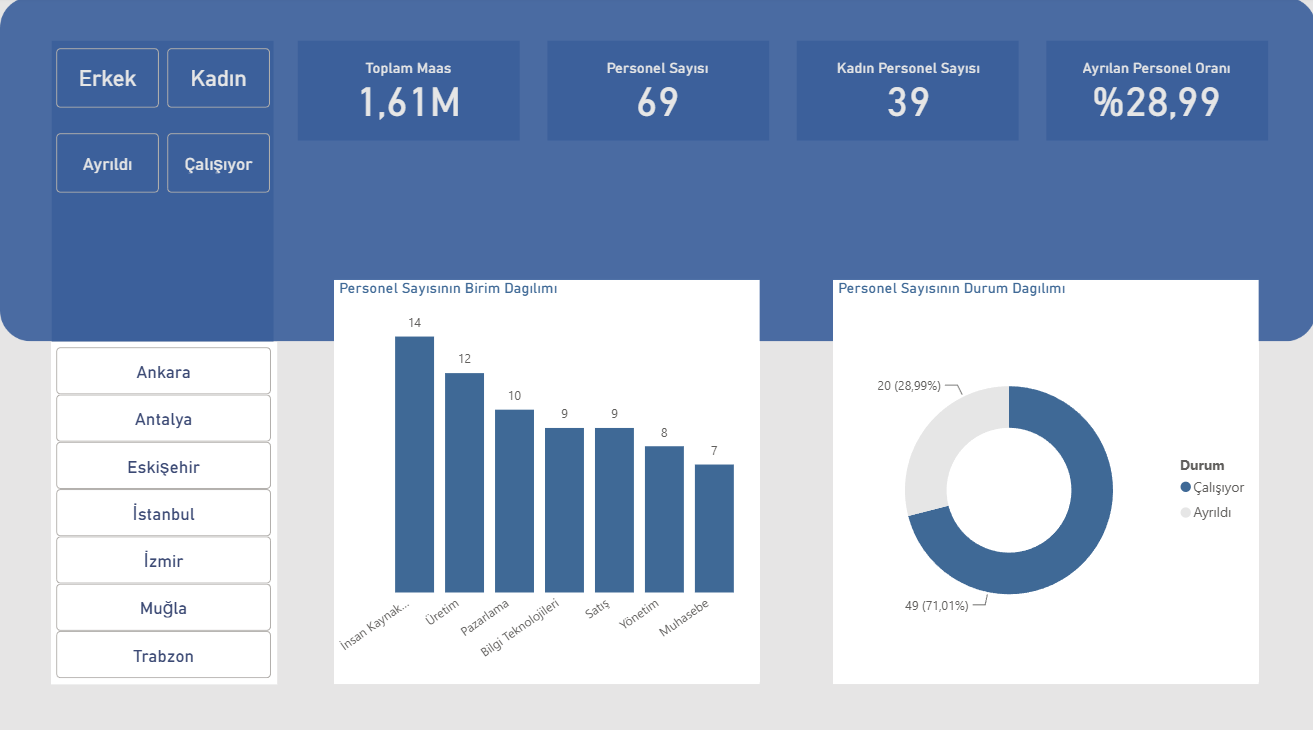

The dashboard page shown, as its layout file describes it:
{"tool":"powerbi","page":{"name":"Anasayfa","canvas":[1280,720],"ordinal":0},"visuals":[{"type":"cardVisual","fields":{"Data":["Sum(Tablo33.Maaş)"]},"box":[289.8,44.7,215.9,94.3],"z":0},{"type":"cardVisual","fields":{"Data":["Table.Personel_Sayisi"]},"box":[532,44.7,215.9,94.3],"z":1000},{"type":"cardVisual","fields":{"Data":["calculate.KadinSayisi"]},"box":[776.2,44.7,215.9,94.3],"z":2000},{"type":"cardVisual","fields":{"Data":["calculate.TurnOver"]},"box":[1017.4,44.7,215.9,94.3],"z":3000},{"type":"columnChart","title":"Personel Sayısının Birim Dagılımı","fields":{"Category":["Tablo33.BİRİM"],"Y":["calculate.Personel_Sayisi"]},"box":[324.9,275.3,414.3,392.9],"z":4000},{"type":"donutChart","title":"Personel Sayısının Durum Dagılımı","fields":{"Category":["Tablo33.Durum"],"Y":["calculate.Personel_Sayisi"]},"box":[810.2,275.3,414.3,392.9],"z":5000},{"type":"advancedSlicerVisual","fields":{"Values":["Tablo33.Cinsiyet"]},"box":[49.6,44.7,219.8,68.1],"z":6000},{"type":"advancedSlicerVisual","fields":{"Values":["Tablo33.Durum"]},"box":[49.6,127.4,219.8,68.1],"z":7000},{"type":"advancedSlicerVisual","fields":{"Values":["Tablo33.Şehir"]},"box":[49.6,335.6,219.8,332.6],"z":8000}]}

Visuals, with their boxes in screenshot pixels (x1, y1, x2, y2), scaled from the page's 1280x720 canvas onto the 1313x730 screenshot:
cardVisual - Sum(Tablo33.Maaş): <box>297,45,519,141</box>
cardVisual - Table.Personel_Sayisi: <box>546,45,767,141</box>
cardVisual - calculate.KadinSayisi: <box>796,45,1018,141</box>
cardVisual - calculate.TurnOver: <box>1044,45,1265,141</box>
"Personel Sayısının Birim Dagılımı" columnChart: <box>333,279,758,677</box>
"Personel Sayısının Durum Dagılımı" donutChart: <box>831,279,1256,677</box>
advancedSlicerVisual - Tablo33.Cinsiyet: <box>51,45,276,114</box>
advancedSlicerVisual - Tablo33.Durum: <box>51,129,276,198</box>
advancedSlicerVisual - Tablo33.Şehir: <box>51,340,276,677</box>
